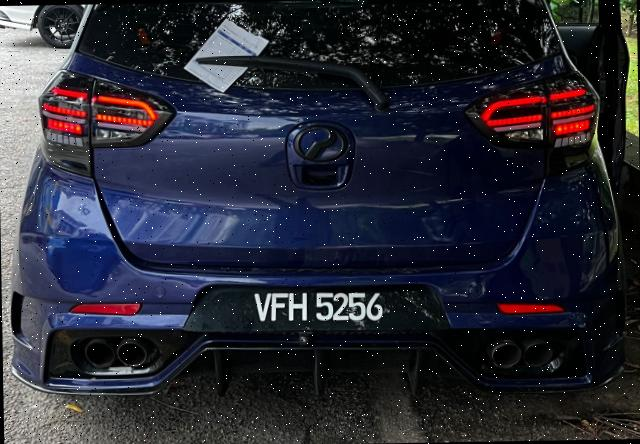License_Plate: (234, 284, 395, 330)
car: (9, 3, 640, 396)
